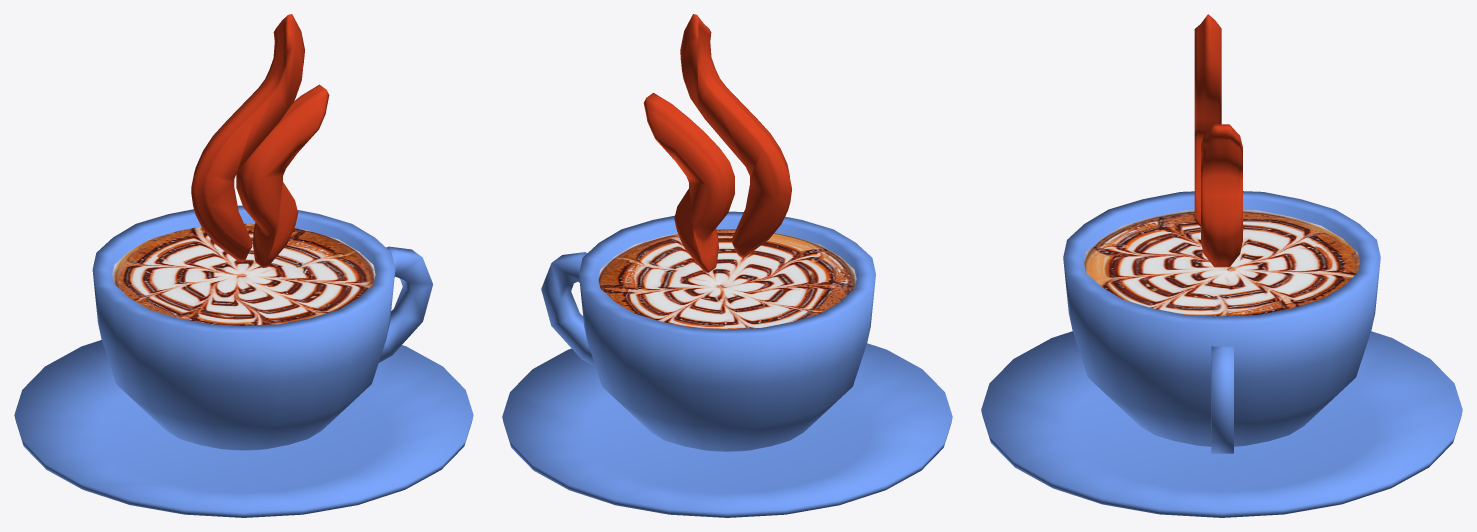
The model's file is javaCup.glb.
The picture shows the model from 3 angles, left to right: view 1: azimuth 30°, elevation 25°; view 2: azimuth 150°, elevation 25°; view 3: azimuth 270°, elevation 25°; orthographic projection. The views are drawn at different scales.
Visible parts, largest first — view 1: coffee_cappuccino_01; view 2: coffee_cappuccino_01; view 3: coffee_cappuccino_01.
Boxes of the visible parts, left/top/right/bottom form: coffee_cappuccino_01: left=14, top=14, right=473, bottom=517; coffee_cappuccino_01: left=502, top=14, right=952, bottom=517; coffee_cappuccino_01: left=981, top=14, right=1462, bottom=517.
Size of the model in its own units: 0.1742 by 0.1782 by 0.1742.
3 materials, 1 textured.
